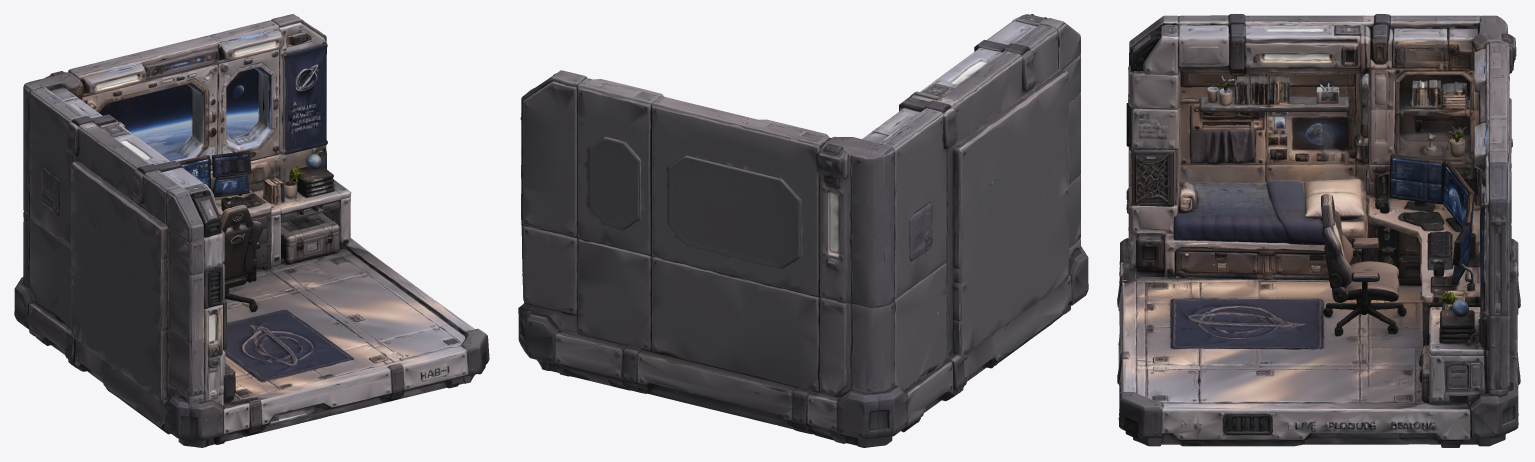
Rendered from quarters_lite.glb.
3 views of the same model, side by side, from view 1: azimuth 30°, elevation 25°; view 2: azimuth 150°, elevation 25°; view 3: azimuth 270°, elevation 25° (orthographic). The views are drawn at different scales.
Parts seen in each view (by area): view 1: Room, Props, Windows, Chair; view 2: Room, Windows, Props; view 3: Room, Props, Chair.
Boxes of the visible parts, left/top/right/bottom form: Room: left=14, top=14, right=489, bottom=447; Props: left=41, top=30, right=465, bottom=402; Windows: left=99, top=50, right=282, bottom=155; Chair: left=220, top=205, right=262, bottom=311; Room: left=518, top=14, right=1088, bottom=447; Windows: left=558, top=110, right=836, bottom=284; Props: left=592, top=20, right=1037, bottom=322; Room: left=1117, top=14, right=1520, bottom=447; Props: left=1119, top=24, right=1487, bottom=434; Chair: left=1321, top=193, right=1406, bottom=336.
Bounding box in the file's own units: 0.9788 × 0.738 × 0.9795.
3 materials, 3 textured.
